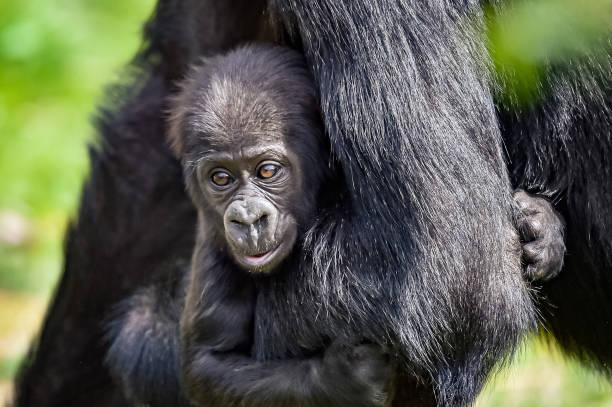gorille_Autres: (118, 48, 526, 354)
